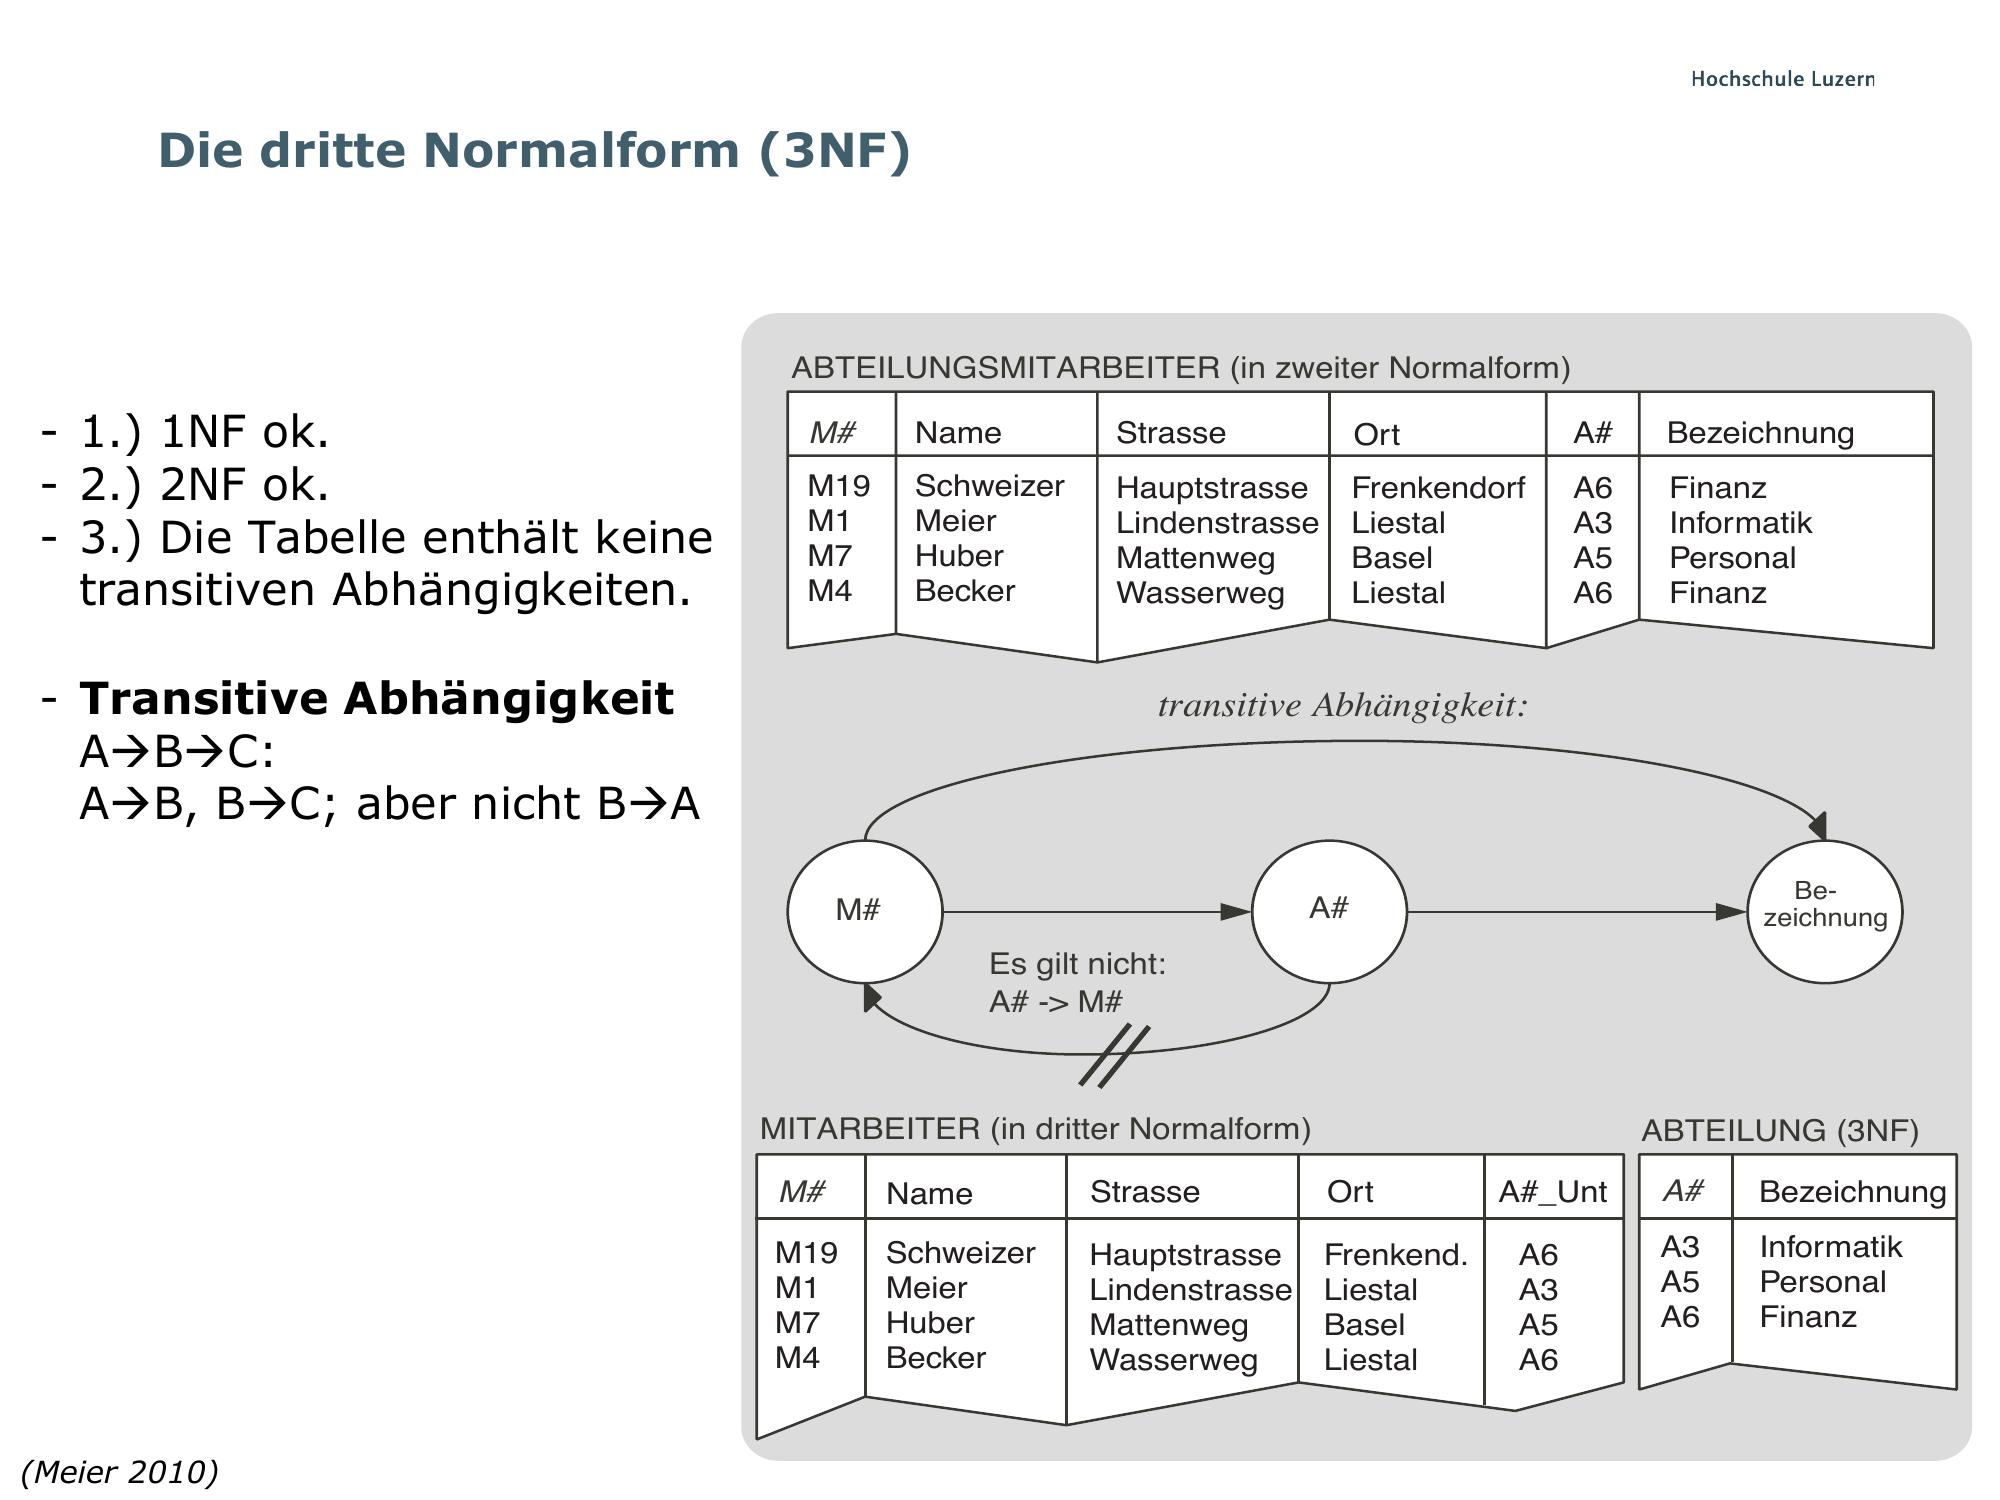Title: (142, 113, 928, 192)
